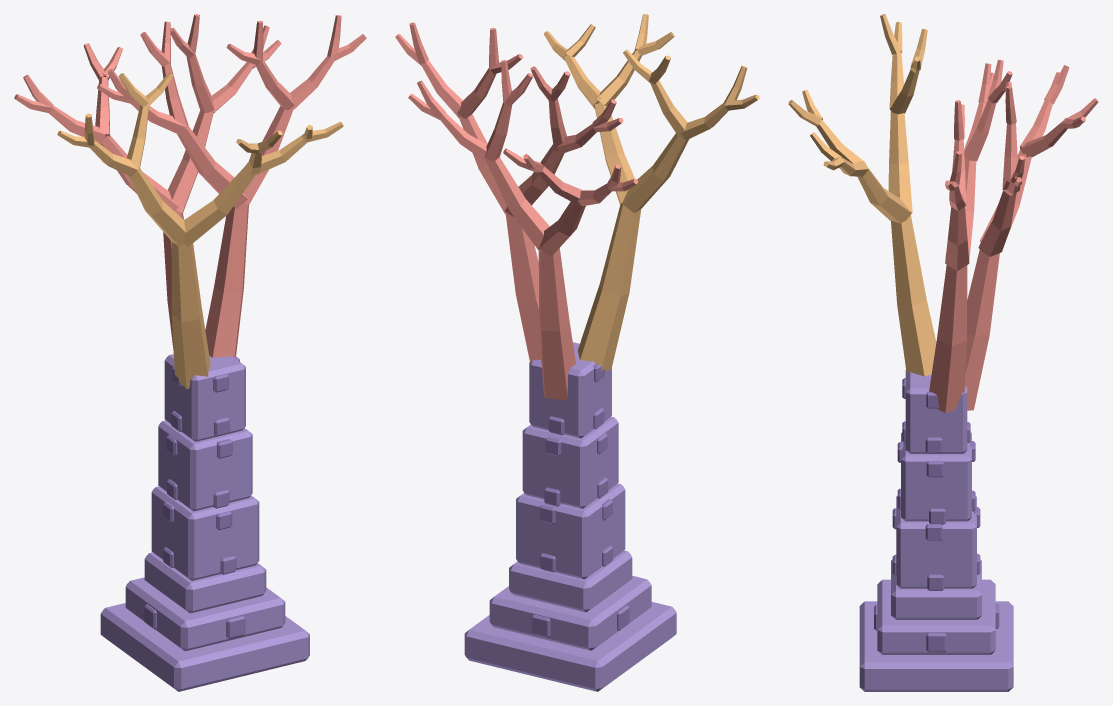
Rendered from UnderwaterCoralTree.fbx.
3 renders of one model, left to right at view 1: azimuth 30°, elevation 25°; view 2: azimuth 150°, elevation 25°; view 3: azimuth 270°, elevation 25°, orthographic. The views are drawn at different scales.
Visible parts, largest first — view 1: UnderwaterCoralTree.Trunk, UnderwaterCoralTree.CoralRed, UnderwaterCoralTree.CoralOrange, UnderwaterCoralTree.TrunkStuds; view 2: UnderwaterCoralTree.Trunk, UnderwaterCoralTree.CoralRed, UnderwaterCoralTree.CoralOrange, UnderwaterCoralTree.TrunkStuds; view 3: UnderwaterCoralTree.Trunk, UnderwaterCoralTree.CoralRed, UnderwaterCoralTree.CoralOrange, UnderwaterCoralTree.TrunkStuds.
Boxes of the visible parts, bbox=[...] form: UnderwaterCoralTree.Trunk: bbox=[100, 354, 309, 691]; UnderwaterCoralTree.CoralRed: bbox=[14, 14, 366, 357]; UnderwaterCoralTree.CoralOrange: bbox=[57, 72, 343, 388]; UnderwaterCoralTree.TrunkStuds: bbox=[144, 356, 245, 638]; UnderwaterCoralTree.Trunk: bbox=[464, 342, 676, 691]; UnderwaterCoralTree.CoralRed: bbox=[395, 22, 638, 399]; UnderwaterCoralTree.CoralOrange: bbox=[543, 14, 759, 371]; UnderwaterCoralTree.TrunkStuds: bbox=[531, 364, 629, 637]; UnderwaterCoralTree.Trunk: bbox=[859, 370, 1013, 691]; UnderwaterCoralTree.CoralRed: bbox=[929, 59, 1098, 412]; UnderwaterCoralTree.CoralOrange: bbox=[788, 14, 936, 376]; UnderwaterCoralTree.TrunkStuds: bbox=[874, 378, 999, 652].
Size of the model in its own units: 6.63 by 11.47 by 5.45.
